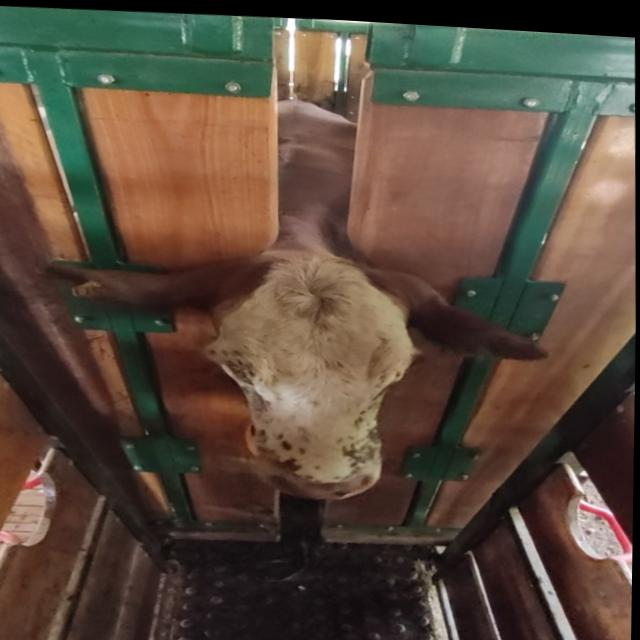cowFace: (200, 246, 418, 501)
